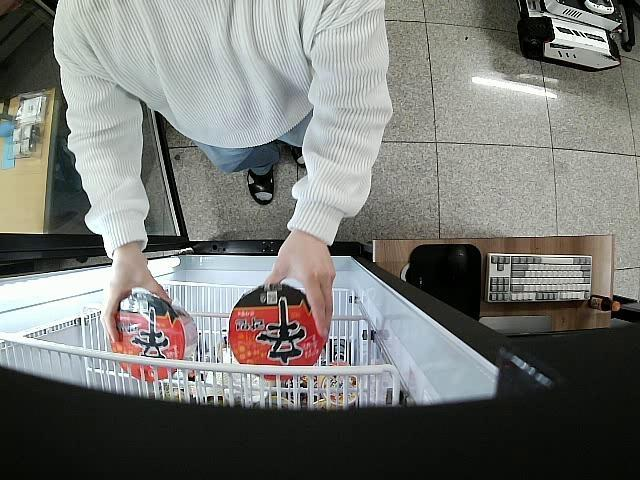01_ShinRamen_L: (228, 283, 324, 383), (110, 294, 196, 380)
